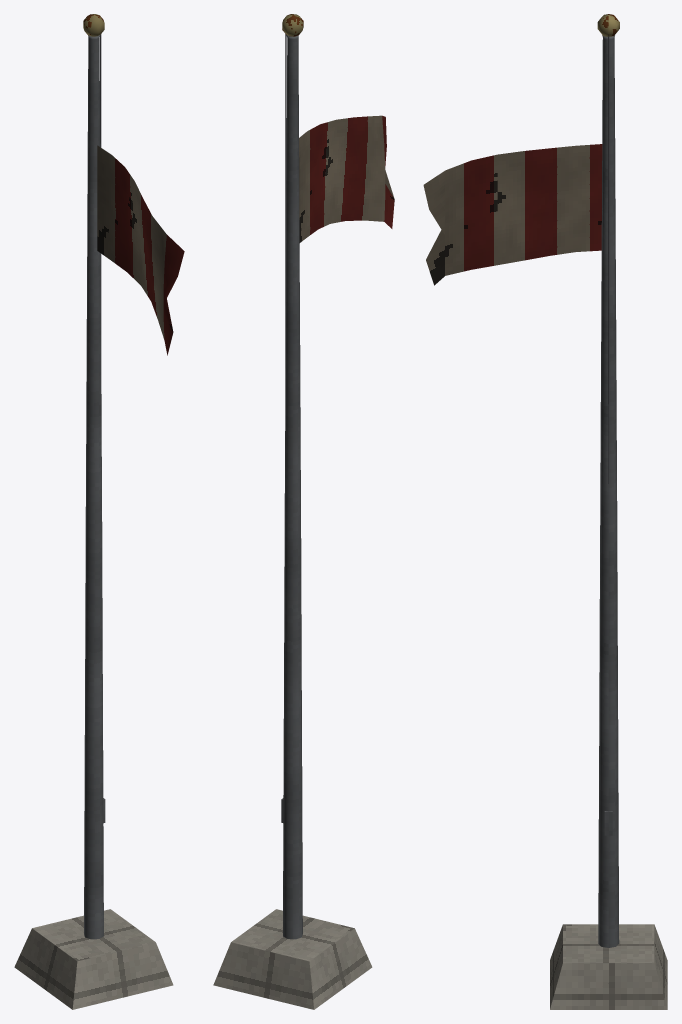
The model's file is flagpole.glb.
3 renders of one model, left to right at view 1: azimuth 30°, elevation 25°; view 2: azimuth 150°, elevation 25°; view 3: azimuth 270°, elevation 25°, orthographic.
Visible parts, largest first — view 1: pole-col, detail; view 2: pole-col, detail; view 3: pole-col, detail.
Boxes of the visible parts, x1,y1,x2,y2 form: pole-col: (14, 35, 173, 1009); detail: (83, 14, 184, 823); pole-col: (213, 35, 372, 1009); detail: (281, 14, 394, 822); pole-col: (550, 35, 667, 1009); detail: (423, 14, 619, 835).
Size of the model in its own units: 0.9 by 8.19 by 1.87.
Materials: 5 (5 with a texture image).
